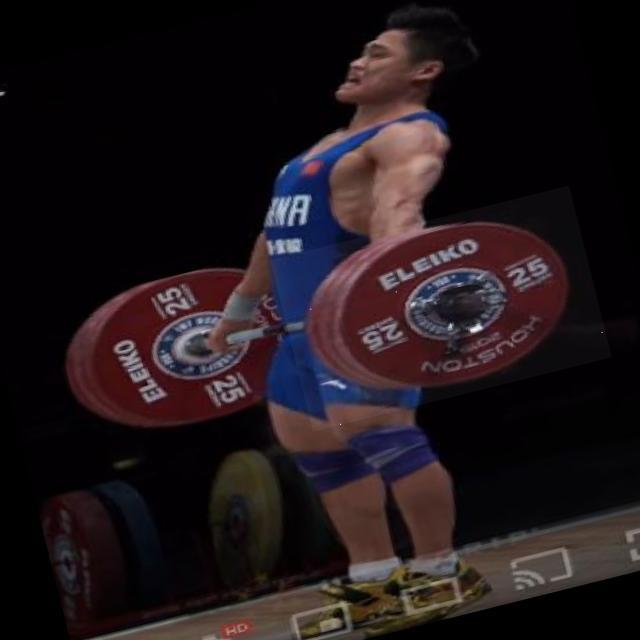barbell: (271, 186, 613, 432)
